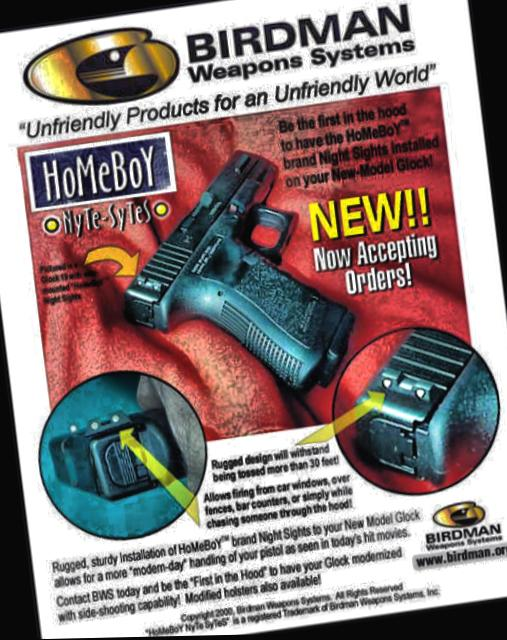pistol: (105, 131, 364, 417)
